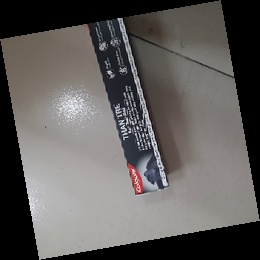Colgate Than: (84, 12, 171, 199)
